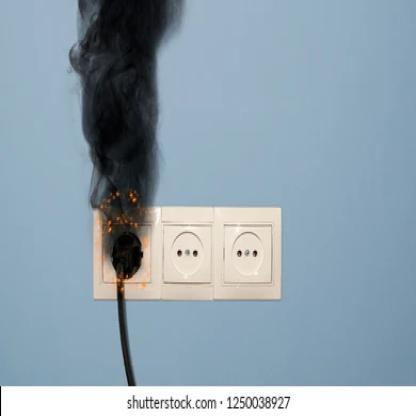smoke: (67, 0, 187, 266)
